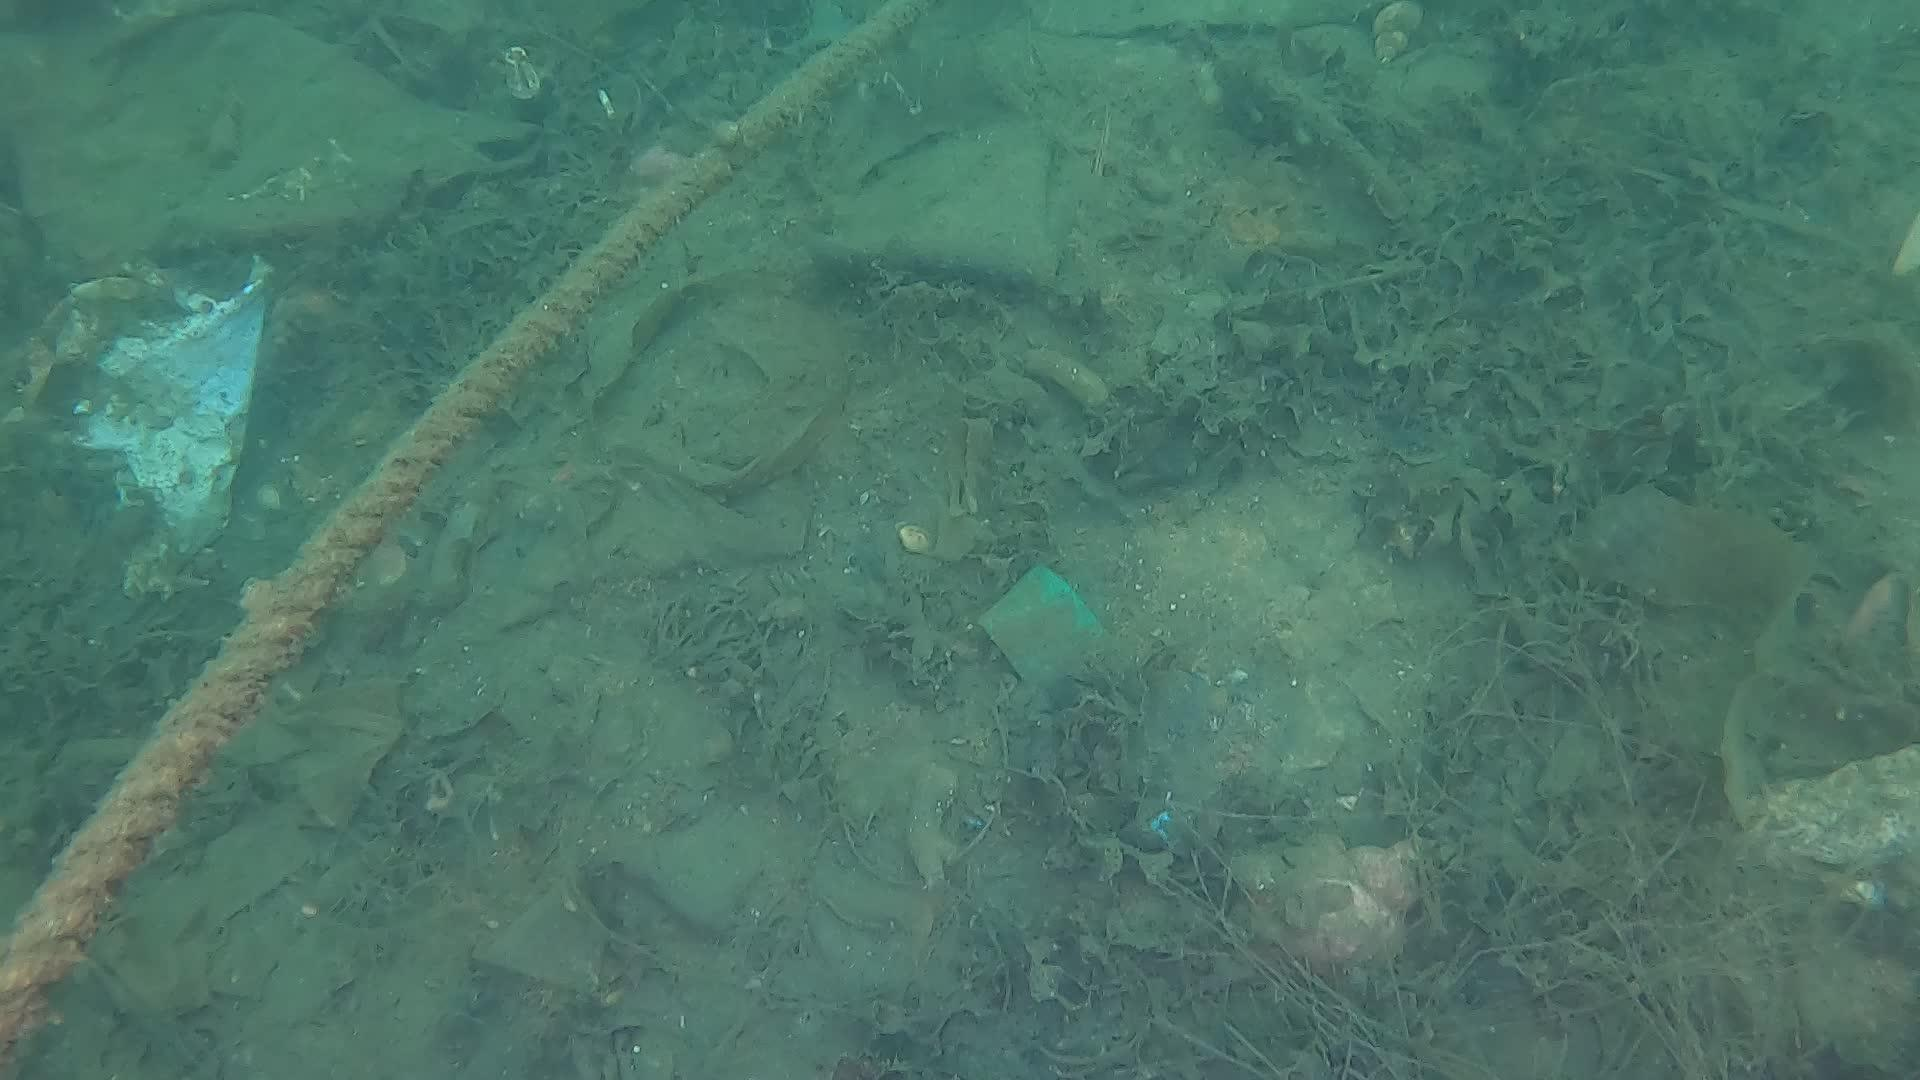rope: (0, 0, 930, 1080)
